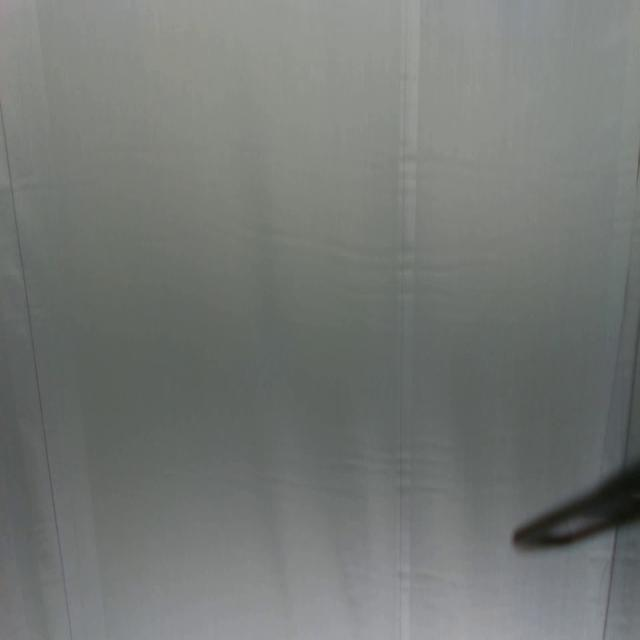crease: (0, 0, 104, 639), (393, 0, 424, 639), (600, 157, 638, 470), (601, 528, 620, 640)
